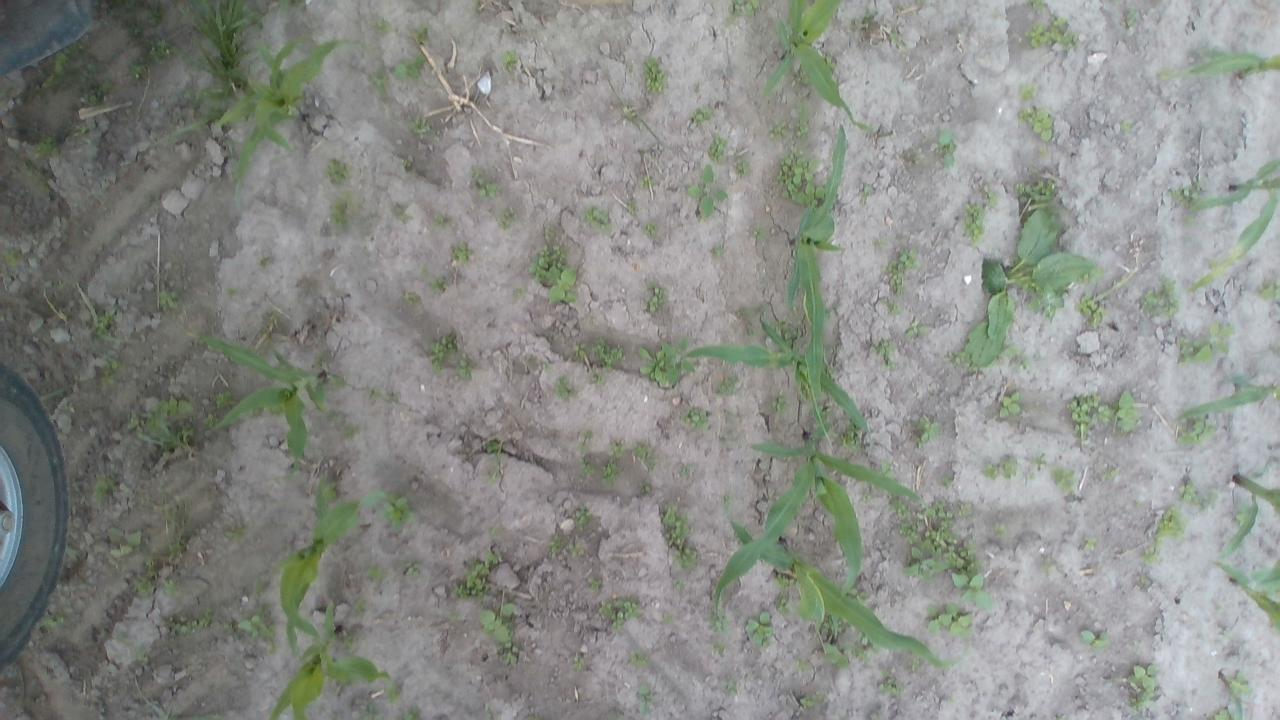Maize: (707, 508, 963, 676), (711, 421, 930, 614), (682, 310, 879, 448), (774, 126, 854, 454), (186, 324, 341, 485), (268, 472, 402, 658), (204, 31, 354, 181), (756, 0, 876, 137), (262, 601, 400, 720), (1182, 157, 1280, 300), (1218, 463, 1280, 565), (1157, 41, 1280, 89), (1171, 375, 1280, 425), (1214, 563, 1280, 634)
Weeds: (959, 172, 1106, 371), (888, 496, 986, 584), (192, 0, 261, 90), (125, 396, 198, 454), (532, 225, 578, 304), (1140, 503, 1192, 567), (634, 336, 697, 386), (427, 330, 482, 386), (570, 334, 626, 388), (658, 501, 702, 568), (689, 165, 739, 222), (476, 601, 520, 665), (776, 150, 826, 206), (182, 84, 232, 134), (1208, 668, 1254, 720), (1118, 659, 1163, 711), (1068, 392, 1112, 442), (858, 8, 906, 53), (594, 593, 646, 633), (1023, 14, 1079, 50), (880, 246, 920, 296), (85, 301, 134, 341), (72, 64, 116, 107), (1138, 275, 1180, 320), (949, 570, 992, 612), (926, 604, 973, 642), (322, 192, 366, 232), (1015, 103, 1057, 144), (1172, 414, 1222, 448), (448, 560, 492, 598), (1112, 387, 1140, 440), (236, 609, 276, 645), (1178, 476, 1220, 510), (934, 125, 961, 177), (1174, 334, 1216, 367), (105, 525, 147, 557), (1078, 290, 1108, 334), (172, 608, 216, 638), (484, 436, 512, 483), (640, 53, 670, 96), (52, 42, 92, 74), (744, 610, 777, 648), (150, 705, 230, 720), (382, 495, 416, 530), (1166, 179, 1202, 212), (121, 7, 158, 39), (1076, 626, 1118, 654), (961, 205, 990, 245), (910, 416, 943, 449), (1204, 322, 1234, 358), (816, 641, 854, 669), (678, 403, 712, 434), (706, 132, 735, 168), (638, 277, 666, 314), (392, 52, 426, 82), (37, 610, 70, 640), (406, 114, 437, 145), (792, 104, 816, 144), (330, 412, 360, 444), (322, 158, 356, 186), (90, 472, 118, 506), (482, 528, 504, 571), (100, 359, 131, 389), (582, 203, 612, 233), (1002, 344, 1031, 375), (726, 0, 765, 23), (366, 66, 392, 100), (524, 353, 558, 379), (206, 388, 241, 412), (716, 370, 744, 400), (1046, 465, 1074, 494), (494, 206, 526, 231), (3, 246, 27, 278), (427, 274, 456, 300), (796, 692, 830, 714), (1000, 391, 1024, 422), (448, 240, 475, 267), (874, 339, 900, 367), (393, 555, 424, 578), (153, 288, 184, 311), (841, 423, 867, 449), (554, 374, 578, 402), (686, 104, 714, 128), (633, 443, 656, 472), (408, 22, 439, 43), (1080, 535, 1106, 560), (125, 60, 152, 84), (36, 137, 64, 160), (1015, 83, 1045, 104), (902, 319, 932, 340), (770, 594, 796, 618), (1258, 278, 1280, 306), (74, 119, 96, 146), (164, 539, 186, 566), (718, 674, 742, 698), (731, 158, 755, 182), (708, 614, 734, 636), (602, 462, 624, 488), (358, 384, 391, 401), (566, 537, 590, 560), (1118, 5, 1140, 30), (878, 678, 904, 699), (636, 173, 664, 192), (498, 46, 522, 68), (639, 685, 655, 718), (223, 526, 252, 544), (476, 174, 496, 200), (848, 643, 874, 663), (374, 16, 397, 38), (401, 288, 424, 310), (778, 318, 800, 341), (401, 153, 422, 177), (391, 203, 412, 227), (572, 504, 596, 525), (706, 244, 732, 263), (767, 121, 789, 143), (575, 432, 597, 454), (771, 570, 794, 591), (748, 220, 769, 243), (132, 578, 156, 598), (822, 616, 846, 636), (771, 388, 787, 418), (858, 180, 876, 206), (149, 34, 170, 56), (570, 653, 592, 674), (608, 438, 629, 460), (1030, 455, 1048, 480), (1000, 455, 1017, 481), (1120, 114, 1140, 136), (709, 638, 729, 660), (668, 574, 688, 596), (130, 648, 154, 666), (544, 533, 562, 557), (980, 459, 999, 481), (428, 212, 452, 229), (946, 350, 966, 370), (981, 190, 1000, 211), (312, 350, 333, 369), (367, 562, 386, 583), (794, 657, 812, 679), (878, 298, 902, 314), (142, 554, 158, 577), (402, 704, 425, 720), (576, 457, 592, 480), (328, 373, 348, 391), (160, 578, 178, 598), (360, 705, 384, 720), (676, 464, 696, 482), (640, 220, 660, 238), (252, 574, 268, 596), (628, 650, 646, 669), (991, 524, 1010, 542), (340, 632, 360, 649), (352, 597, 369, 616), (624, 198, 641, 217), (1026, 0, 1052, 12), (641, 480, 658, 498), (586, 576, 604, 592), (940, 472, 954, 492), (878, 463, 894, 479), (662, 610, 678, 626), (859, 491, 875, 506), (1102, 468, 1117, 483), (116, 633, 133, 646), (590, 373, 606, 386), (907, 660, 921, 674), (895, 237, 909, 249), (1138, 572, 1150, 586), (875, 238, 888, 250), (879, 669, 890, 679)
